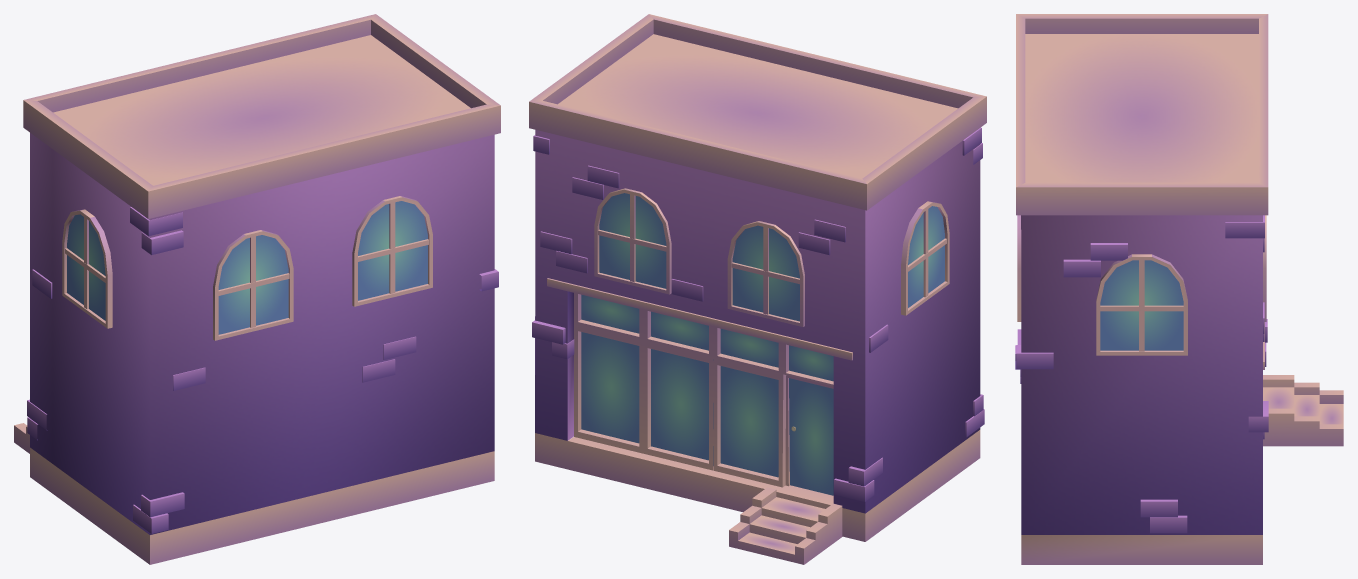
File: SM_2F_Half_06.fbx
3 renders of one model, left to right at view 1: azimuth 30°, elevation 25°; view 2: azimuth 150°, elevation 25°; view 3: azimuth 270°, elevation 25°, orthographic. The views are drawn at different scales.
Parts seen in each view (by area): view 1: SM_2F_Half_06; view 2: SM_2F_Half_06; view 3: SM_2F_Half_06.
Boxes of the visible parts, box(x1,y1,x2,y2) form: SM_2F_Half_06: box(14, 14, 500, 564); SM_2F_Half_06: box(529, 14, 986, 564); SM_2F_Half_06: box(1015, 14, 1343, 564).
Size of the model in its own units: 7.91 by 6.29 by 8.03.
